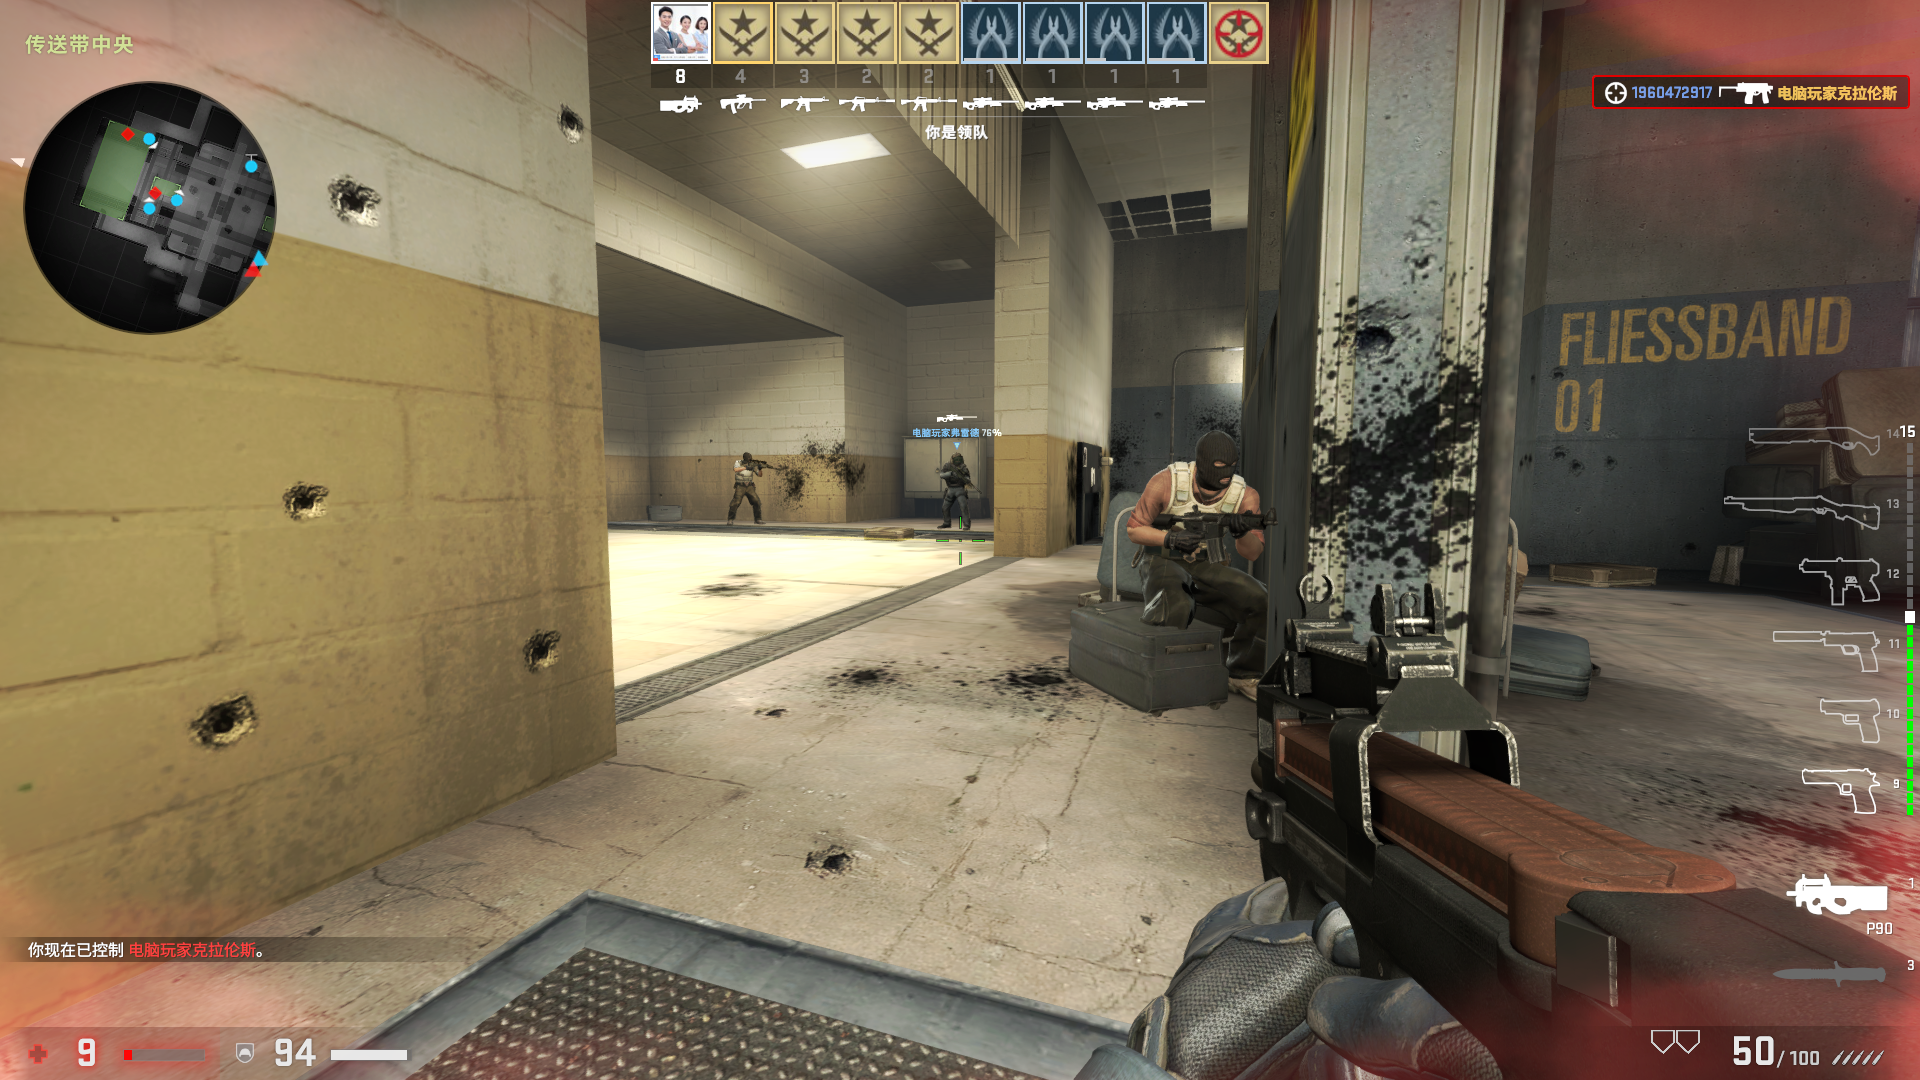person: (1132, 422, 1270, 681), (727, 449, 776, 525), (938, 447, 974, 538)
